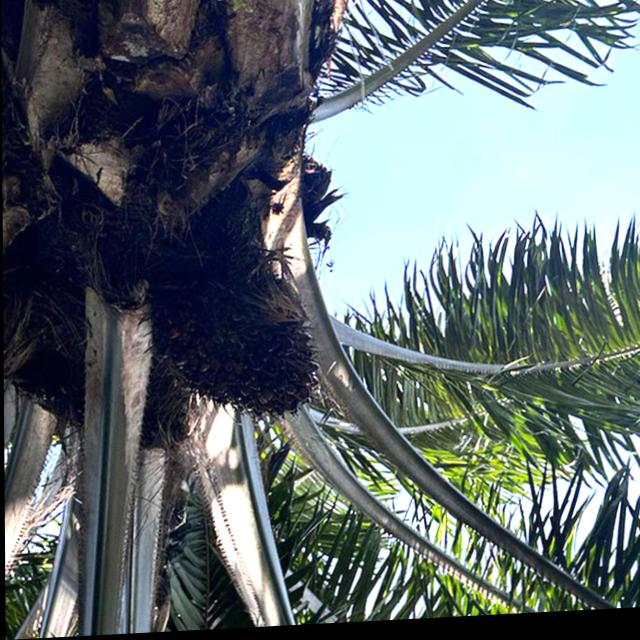ripe: (144, 250, 333, 440)
